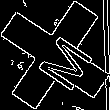M_NW: (21, 22, 89, 88)
